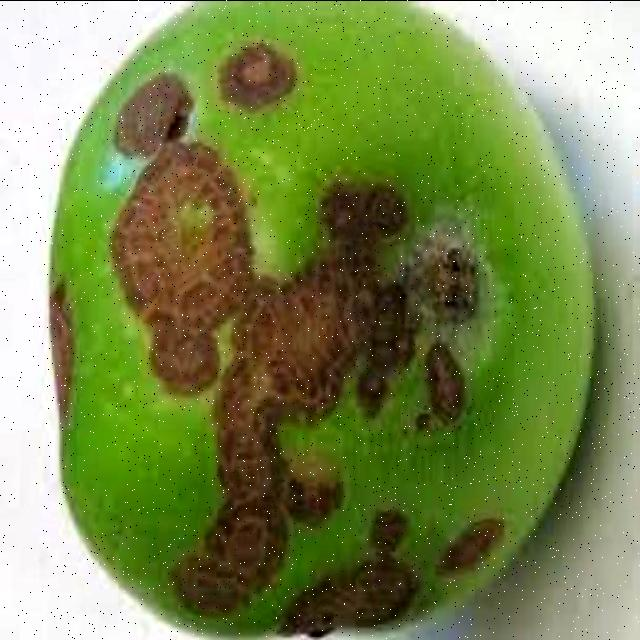SCAB: (26, 13, 603, 619)
